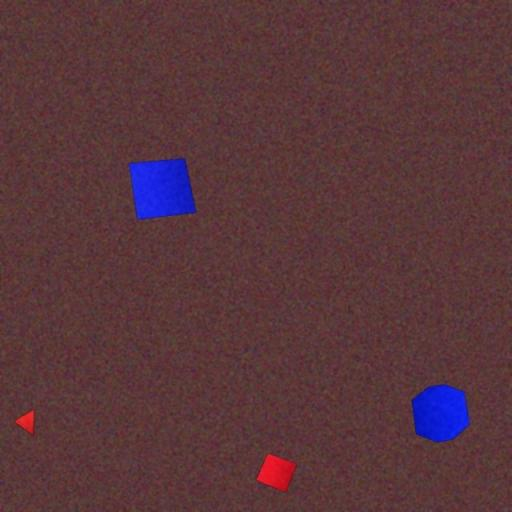BLUE_SQUARE: (128, 158, 197, 220)
RED_SQUARE: (255, 452, 298, 494)
